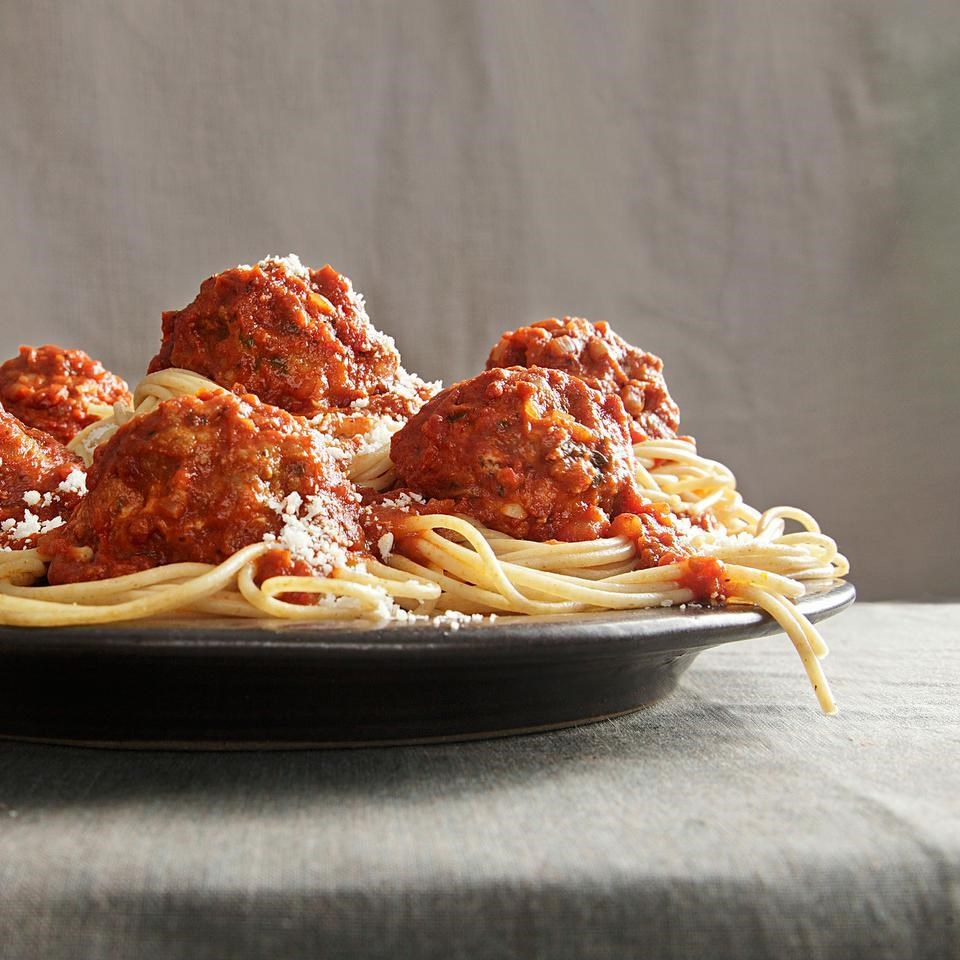meatballs: (111, 406, 357, 552), (418, 357, 630, 523), (196, 250, 389, 418)
plain spaghetti: (411, 533, 789, 618)
